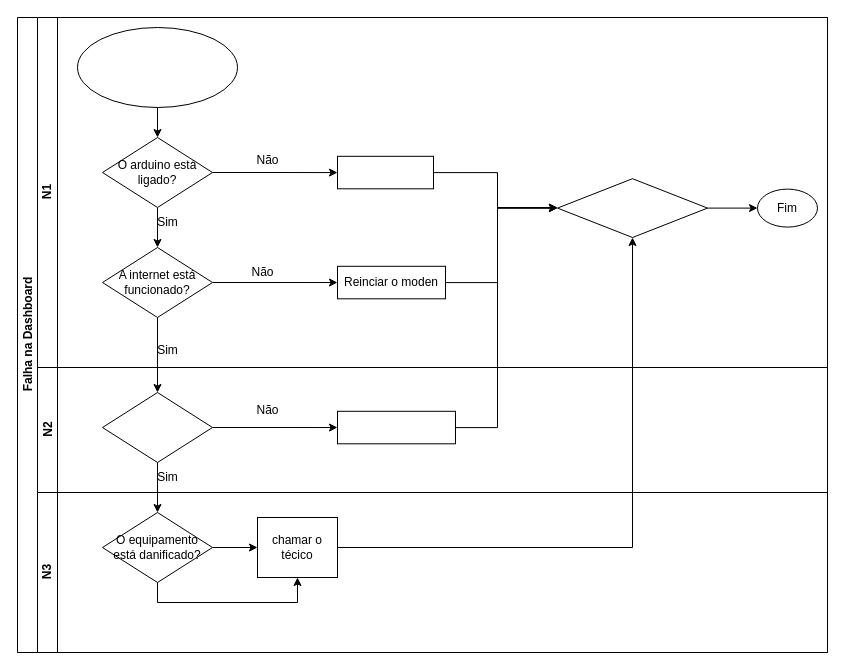
This 845x670 diagram has some shape labels left out. The centre of each missing label's shape, as x and y in pixels:
Conectar os cabos: the point at 396,427
Falha na exibição dos dados na dashboard: the point at 157,67
Funcionou?: the point at 632,208
Ligar o Arduino: the point at 385,172
Os cabos estão conectados?: the point at 157,427
